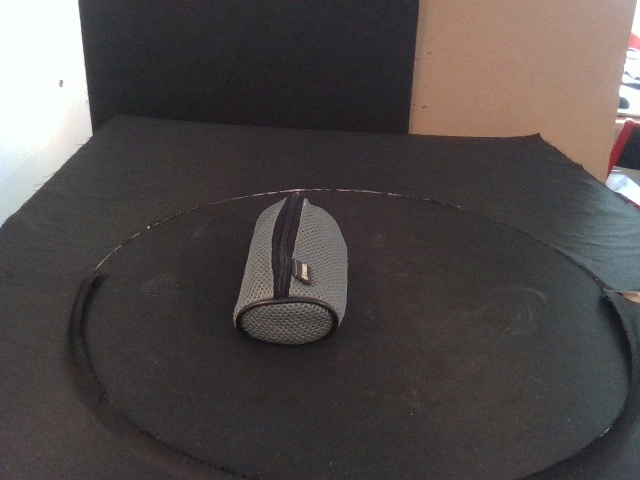pencil_case: (232, 193, 349, 347)
